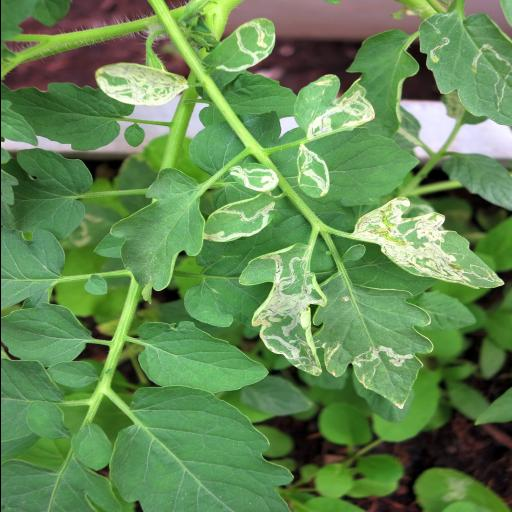disease_tomato: (312, 264, 432, 410), (342, 196, 506, 288), (236, 244, 328, 380), (418, 12, 512, 134), (202, 162, 290, 256), (293, 74, 377, 140), (198, 18, 277, 80), (95, 62, 186, 108), (294, 146, 330, 198)
